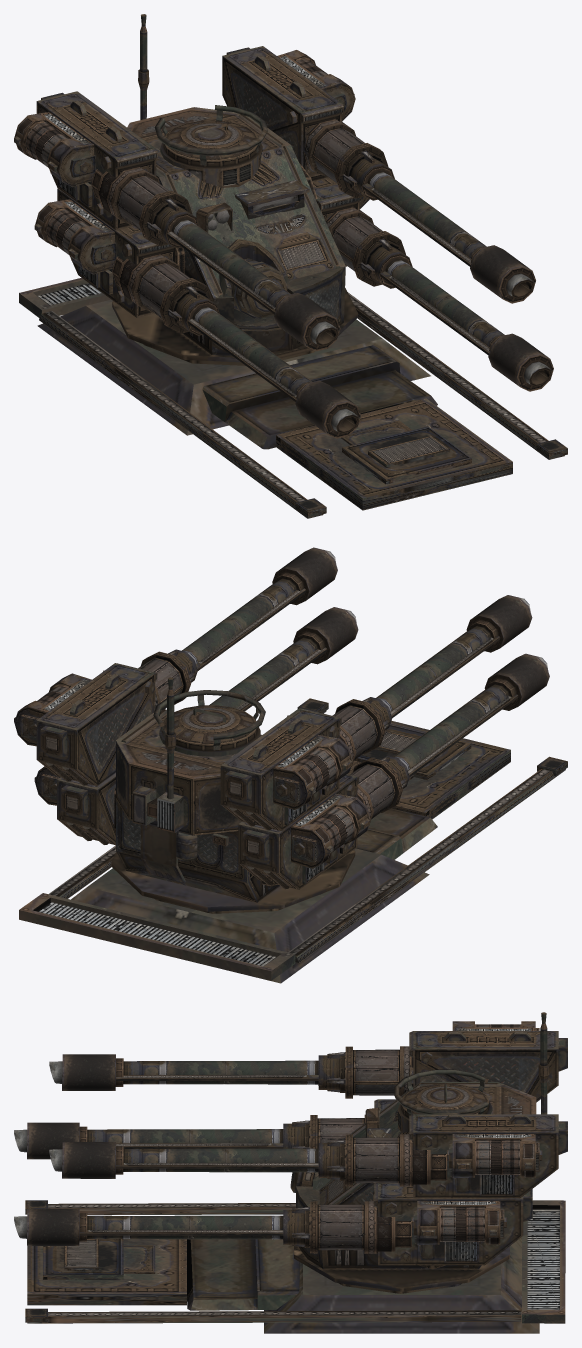
Rendered from antiair_turret.fbx.
The picture shows the model from 3 angles, top to bottom: view 1: azimuth 30°, elevation 25°; view 2: azimuth 150°, elevation 25°; view 3: azimuth 270°, elevation 25°; orthographic projection. The views are drawn at different scales.
Visible parts, largest first — view 1: polySurface12891, polySurface12920, polySurface12921, polySurface12878, polySurface12877; view 2: polySurface12920, polySurface12891, polySurface12921, polySurface12877, polySurface12878; view 3: polySurface12920, polySurface12891, polySurface12921, polySurface12878, polySurface12877.
Part boxes in pixels (x1,y1,x2,y2): polySurface12891: (19,277,567,518); polySurface12920: (14,46,412,335); polySurface12921: (112,14,357,365); polySurface12878: (362,171,553,391); polySurface12877: (167,219,360,438); polySurface12920: (14,649,409,889); polySurface12891: (19,698,567,983); polySurface12921: (111,677,355,913); polySurface12877: (376,595,549,776); polySurface12878: (182,547,358,711); polySurface12920: (283,1021,567,1265); polySurface12891: (25,1200,565,1333); polySurface12921: (290,1012,549,1293); polySurface12878: (14,1142,318,1245); polySurface12877: (14,1054,318,1159).
Bounding box in the file's own units: 126 × 113 × 219.
Materials: 1 (1 with a texture image).
